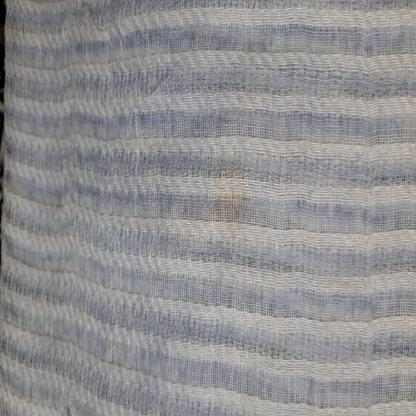spot: (211, 134, 254, 278)
